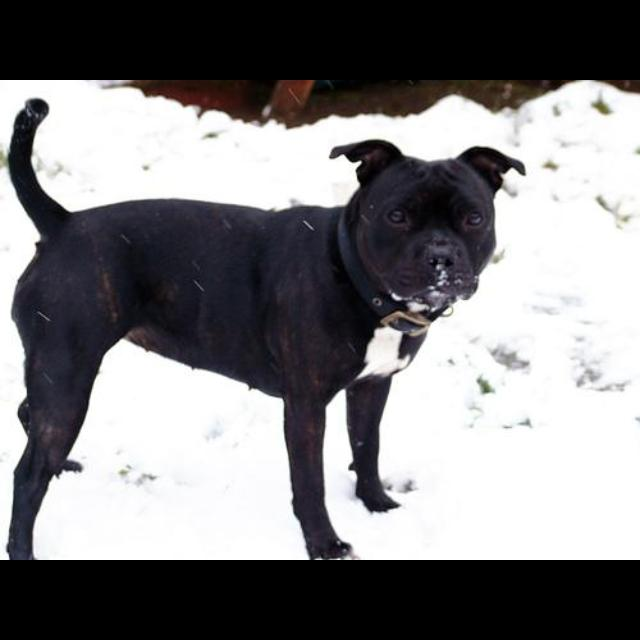amstaff: (4, 97, 527, 560)
